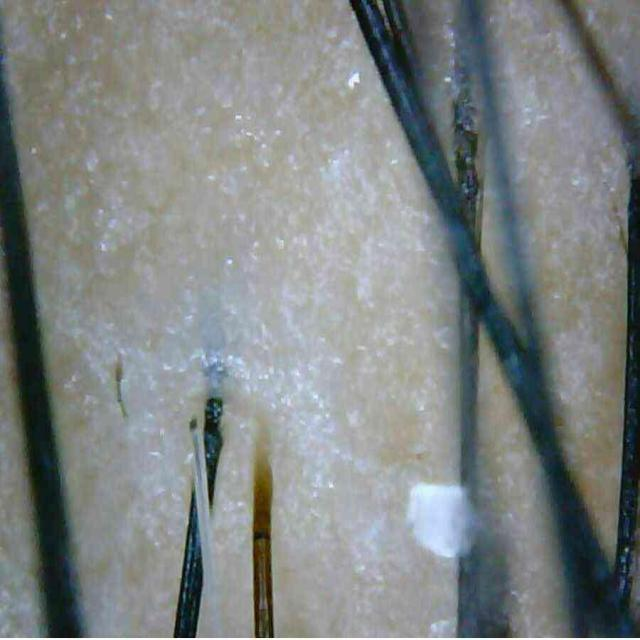d: (397, 474, 475, 562)
